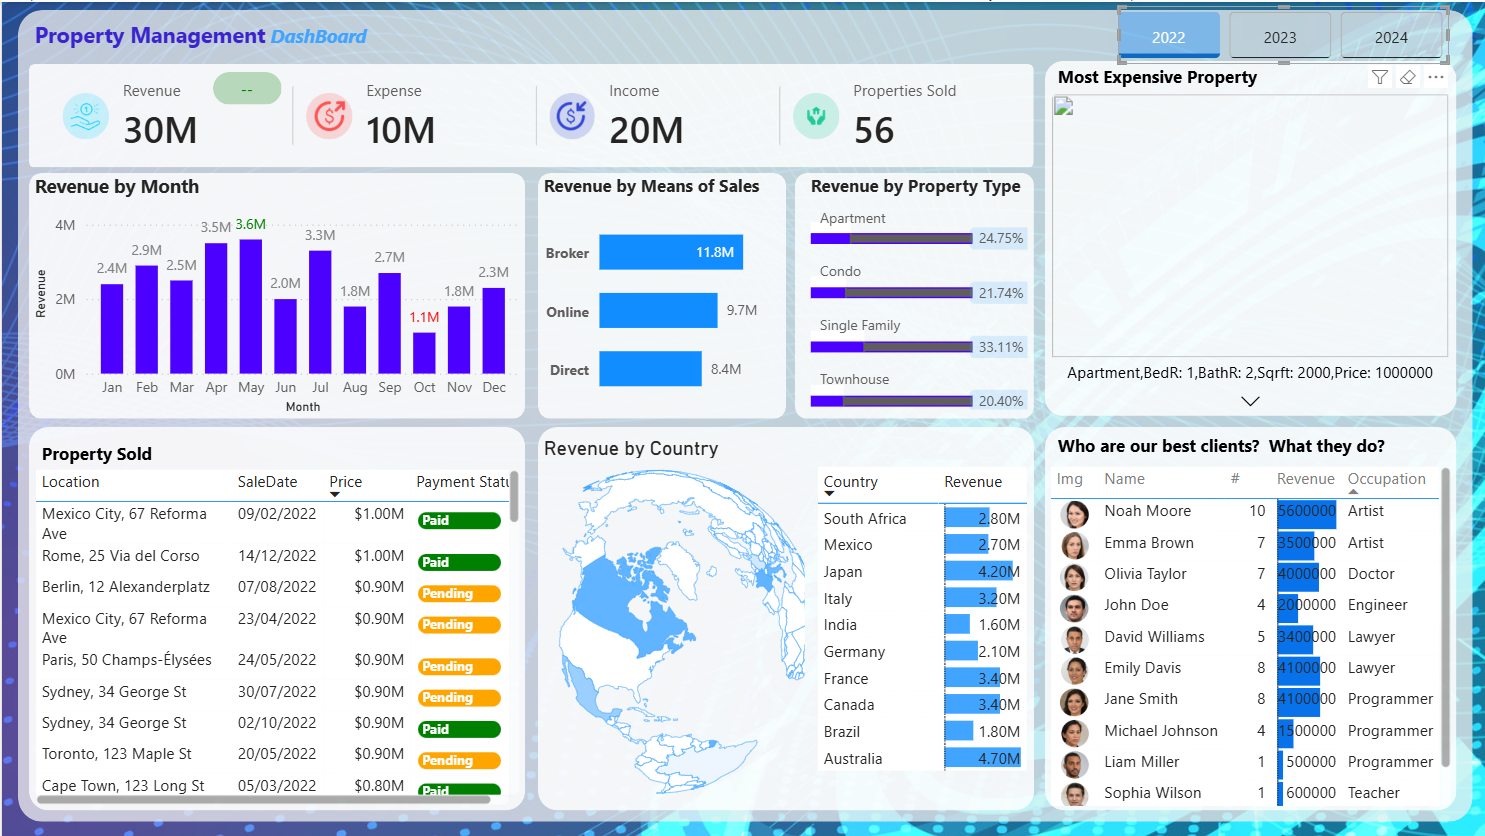

What the dashboard file says about the page in this screenshot:
{"tool":"powerbi","page":{"name":"Page 1","canvas":[1280,720],"ordinal":0},"visuals":[{"type":"shape","box":[13.6,6.8,1254.7,700.3],"z":0},{"type":"shape","box":[899.7,50.6,355,306.4],"z":1000},{"type":"shape","box":[899.7,366.7,355,330.7],"z":2000},{"type":"shape","box":[462,366.7,428,330.7],"z":3000},{"type":"shape","box":[23.3,366.7,428,330.7],"z":4000},{"type":"shape","box":[23.3,147.8,428,212],"z":5000},{"type":"shape","box":[23.3,53.5,866.6,89.5],"z":6000},{"type":"shape","box":[462,147.8,214,212],"z":7000},{"type":"shape","box":[683.8,147.8,206.2,212],"z":8000},{"type":"advancedSlicerVisual","fields":{"Values":["Calendar.Year"]},"box":[963,3.5,285.5,50],"z":9000},{"type":"cardVisual","fields":{"Data":["ALL Measures.Revenue","ALL Measures.Expense","ALL Measures.Income","ALL Measures.Properties Sold"]},"box":[23.3,53.5,866.6,89.5],"z":10000},{"type":"cardVisual","fields":{"Data":["ALL Measures.Revenue Growth"]},"box":[154.7,48.6,114.8,51.6],"z":11000},{"type":"shape","box":[181.9,60.3,59.3,28.2],"z":12000},{"type":"clusteredColumnChart","fields":{"Y":["ALL Measures.Revenue"],"Category":["Calendar.Month"]},"box":[23.3,147.8,428,212],"z":13000},{"type":"clusteredBarChart","fields":{"Y":["ALL Measures.Revenue"],"Category":["Sales_Table.Means of Sales"]},"box":[462,147.8,214,212],"z":14000},{"type":"clusteredBarChart","title":"Revenue by Property Type","fields":{"Y":["ALL Measures.Base Zero","ALL Measures.% GT","ALL Measures.Whole"],"Category":["Property_Table.Type"]},"box":[692.5,147.8,197.4,209.1],"z":15000},{"type":"tableEx","fields":{"Values":["Property_Table.Location","Sales_Table.SaleDate","Sum(Property_Table.Price)","ALL Measures.Payment Status SVG"]},"box":[23.3,398.8,428,298.6],"z":16000},{"type":"tableEx","fields":{"Values":["Property_Table.Country","ALL Measures.Revenue"]},"box":[697.4,395.9,192.6,272.3],"z":17000},{"type":"tableEx","fields":{"Values":["Client_Table.Img","Client_Table.Name","ALL Measures.Properties Sold","ALL Measures.Revenue","Client_Table.Occupation"]},"box":[898.7,395.9,356,301.5],"z":18000},{"type":"advancedSlicerVisual","fields":{"Values":["Property_Table.Description"]},"box":[900,53.2,354.7,306.8],"z":19000},{"type":"textbox","box":[23.1,10.6,299.7,42.6],"z":20000},{"type":"textbox","box":[29.3,374.2,172,42.6],"z":21000},{"type":"textbox","box":[905.3,48.8,258,42.6],"z":22000},{"type":"textbox","box":[905.3,367.1,330.7,42.6],"z":23000},{"type":"shapeMap","title":"     Revenue by Country","fields":{"Category":["Property_Table.Country"],"Value":["ALL Measures.Revenue"]},"box":[462,374.2,235,322.8],"z":24000}]}

Visuals, with their boxes in screenshot pixels (x1, y1, x2, y2), scaled from the page's 1280x720 canvas onto the 1485x836 screenshot:
shape: {"x1": 16, "y1": 8, "x2": 1471, "y2": 821}
shape: {"x1": 1044, "y1": 59, "x2": 1456, "y2": 415}
shape: {"x1": 1044, "y1": 426, "x2": 1456, "y2": 810}
shape: {"x1": 536, "y1": 426, "x2": 1033, "y2": 810}
shape: {"x1": 27, "y1": 426, "x2": 524, "y2": 810}
shape: {"x1": 27, "y1": 172, "x2": 524, "y2": 418}
shape: {"x1": 27, "y1": 62, "x2": 1032, "y2": 166}
shape: {"x1": 536, "y1": 172, "x2": 784, "y2": 418}
shape: {"x1": 793, "y1": 172, "x2": 1033, "y2": 418}
advancedSlicerVisual - Calendar.Year: {"x1": 1117, "y1": 4, "x2": 1448, "y2": 62}
cardVisual - ALL Measures.Revenue x ALL Measures.Expense: {"x1": 27, "y1": 62, "x2": 1032, "y2": 166}
cardVisual - ALL Measures.Revenue Growth: {"x1": 179, "y1": 56, "x2": 313, "y2": 116}
shape: {"x1": 211, "y1": 70, "x2": 280, "y2": 103}
clusteredColumnChart - ALL Measures.Revenue x Calendar.Month: {"x1": 27, "y1": 172, "x2": 524, "y2": 418}
clusteredBarChart - ALL Measures.Revenue x Sales_Table.Means of Sales: {"x1": 536, "y1": 172, "x2": 784, "y2": 418}
"Revenue by Property Type" clusteredBarChart: {"x1": 803, "y1": 172, "x2": 1032, "y2": 414}
tableEx - Property_Table.Location x Sales_Table.SaleDate: {"x1": 27, "y1": 463, "x2": 524, "y2": 810}
tableEx - Property_Table.Country x ALL Measures.Revenue: {"x1": 809, "y1": 460, "x2": 1033, "y2": 776}
tableEx - Client_Table.Img x Client_Table.Name: {"x1": 1043, "y1": 460, "x2": 1456, "y2": 810}
advancedSlicerVisual - Property_Table.Description: {"x1": 1044, "y1": 62, "x2": 1456, "y2": 418}
textbox: {"x1": 27, "y1": 12, "x2": 374, "y2": 62}
textbox: {"x1": 34, "y1": 434, "x2": 234, "y2": 484}
textbox: {"x1": 1050, "y1": 57, "x2": 1350, "y2": 106}
textbox: {"x1": 1050, "y1": 426, "x2": 1434, "y2": 476}
"     Revenue by Country" shapeMap: {"x1": 536, "y1": 434, "x2": 809, "y2": 809}
